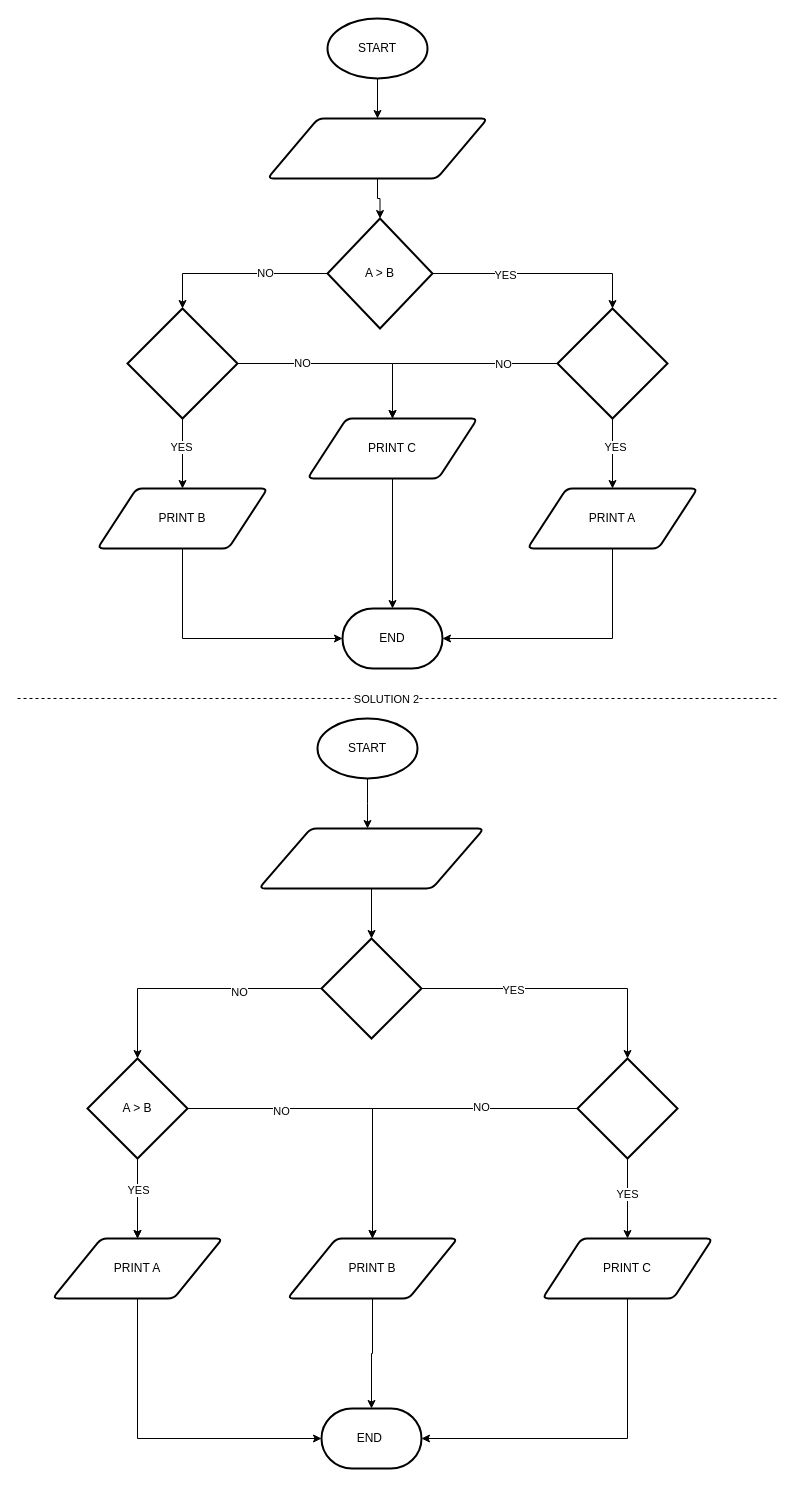
This 796x1486 diagram has some shape labels left out. Each missing label, with the centre of its shape:
A > C: the point at 612,363
B > C: the point at 182,363
C > A: the point at 371,988
C > B: the point at 627,1108
READ A , B ,C: the point at 371,858
READ A,B,C: the point at 377,148
